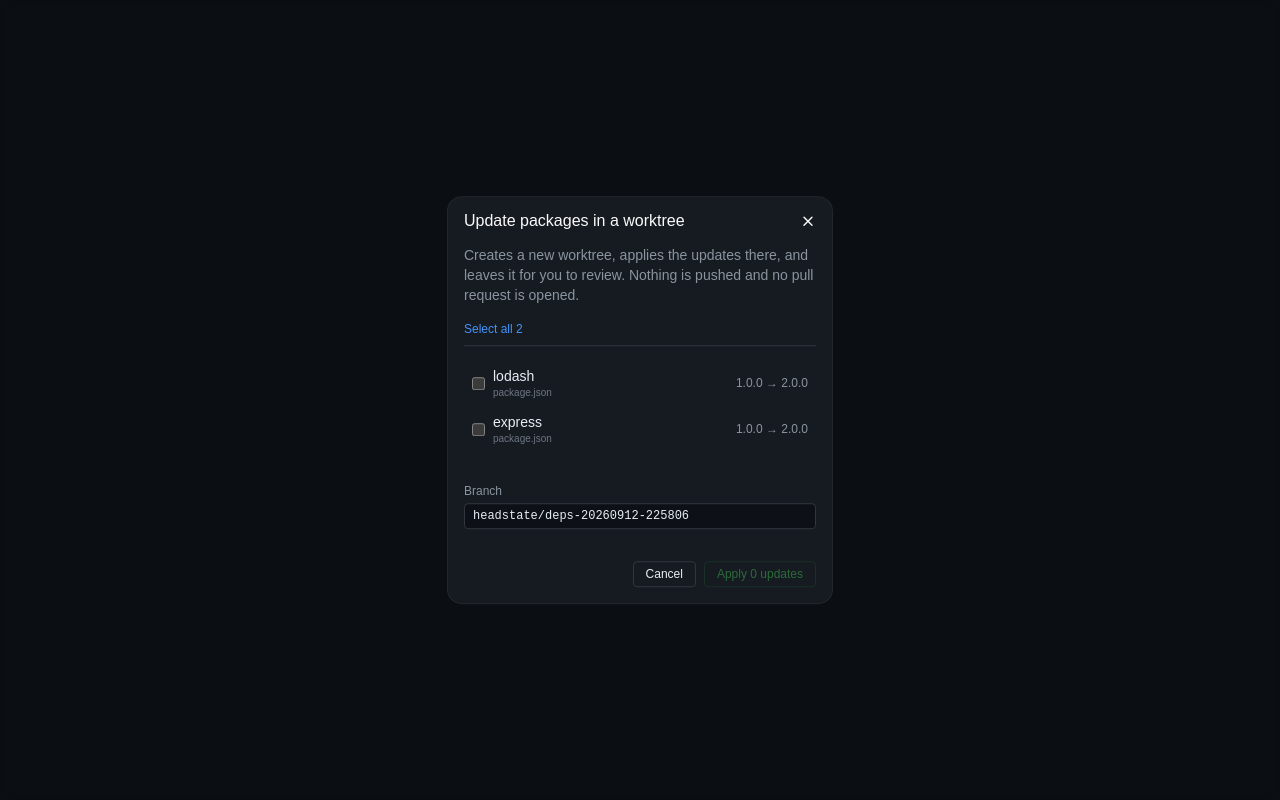
Test: UpdateWizard › selects and clears every applicable package
This screenshot has width=1280, height=800.
Click the button "Select all 2" at (493, 329), box 464,321 -> 523,337
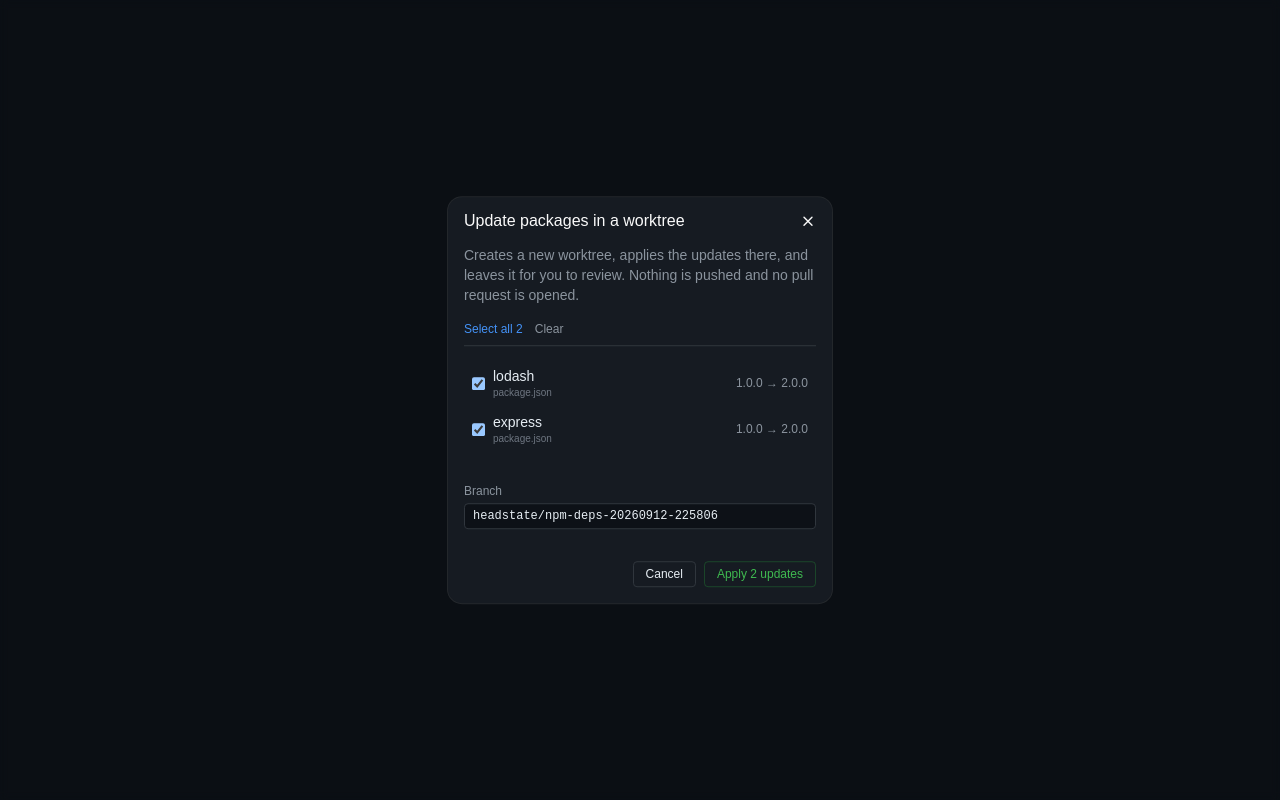
Now the checkbox labelled "lodash package.json 1.0.0 → 2.0.0" is checked, box 472,377 -> 485,390
Now the checkbox labelled "express package.json 1.0.0 → 2.0.0" is checked, box 472,423 -> 485,436
Click the button "Clear" at (549, 329), box 535,321 -> 563,337
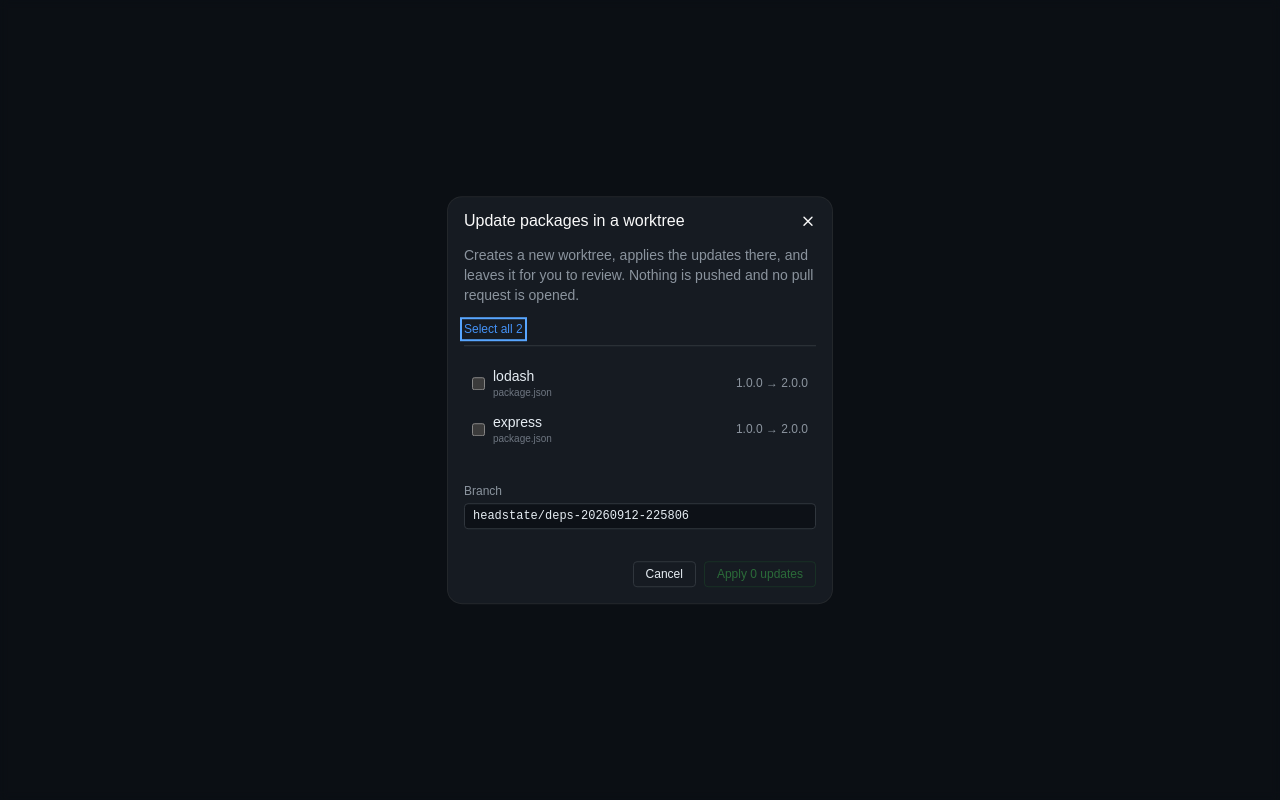
Now the checkbox labelled "lodash package.json 1.0.0 → 2.0.0" is not checked, box 472,377 -> 485,390
Now the checkbox labelled "express package.json 1.0.0 → 2.0.0" is not checked, box 472,423 -> 485,436
